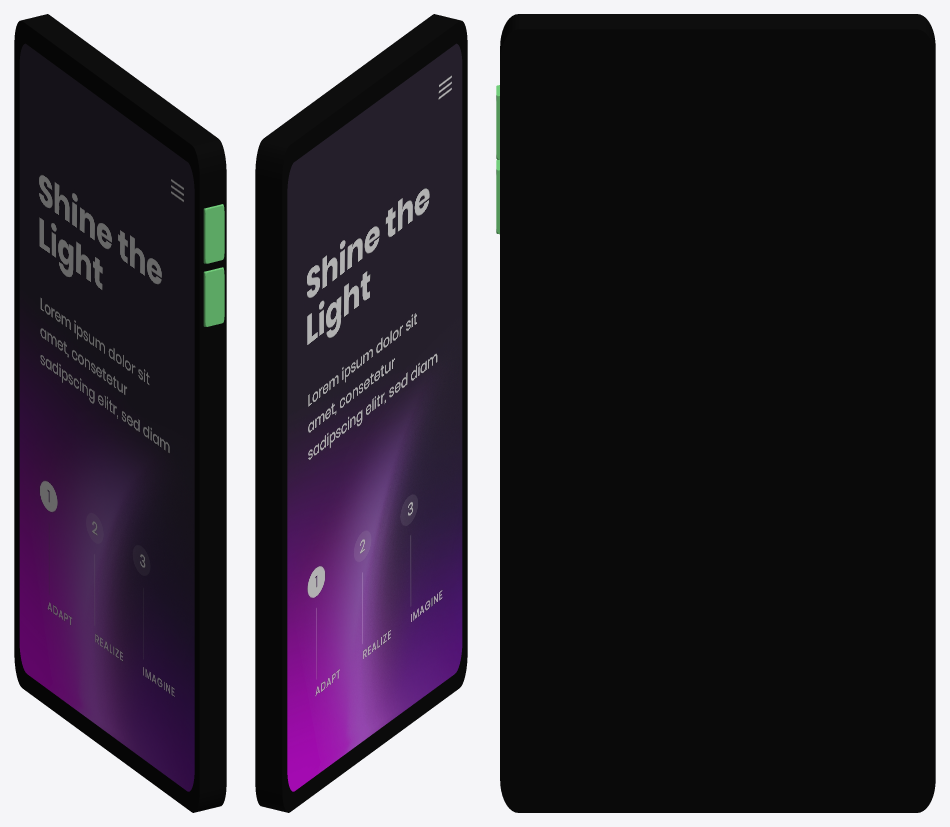
File: phone.gltf
3 renders of one model, left to right at view 1: azimuth 30°, elevation 25°; view 2: azimuth 150°, elevation 25°; view 3: azimuth 270°, elevation 25°, orthographic. The views are drawn at different scales.
Visible parts, largest first — view 1: Buttons.001; view 2: Buttons.001; view 3: Buttons.001.
Boxes of the visible parts, bbox=[...] form: Buttons.001: bbox=[14, 14, 226, 812]; Buttons.001: bbox=[255, 14, 467, 812]; Buttons.001: bbox=[496, 14, 935, 812].
Size of the model in its own units: 0.1666 by 3.97 by 2.02.
3 materials, 1 textured.
